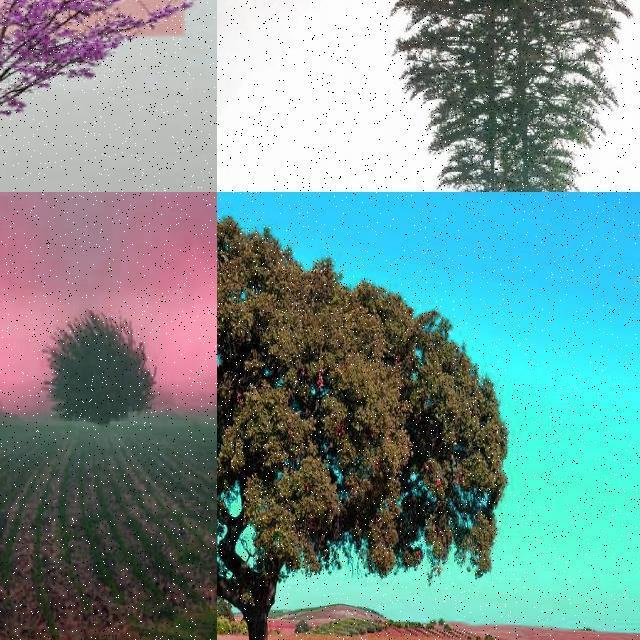tree: (217, 206, 503, 640), (370, 0, 640, 192), (0, 0, 216, 192), (48, 308, 158, 420), (292, 0, 356, 44)
